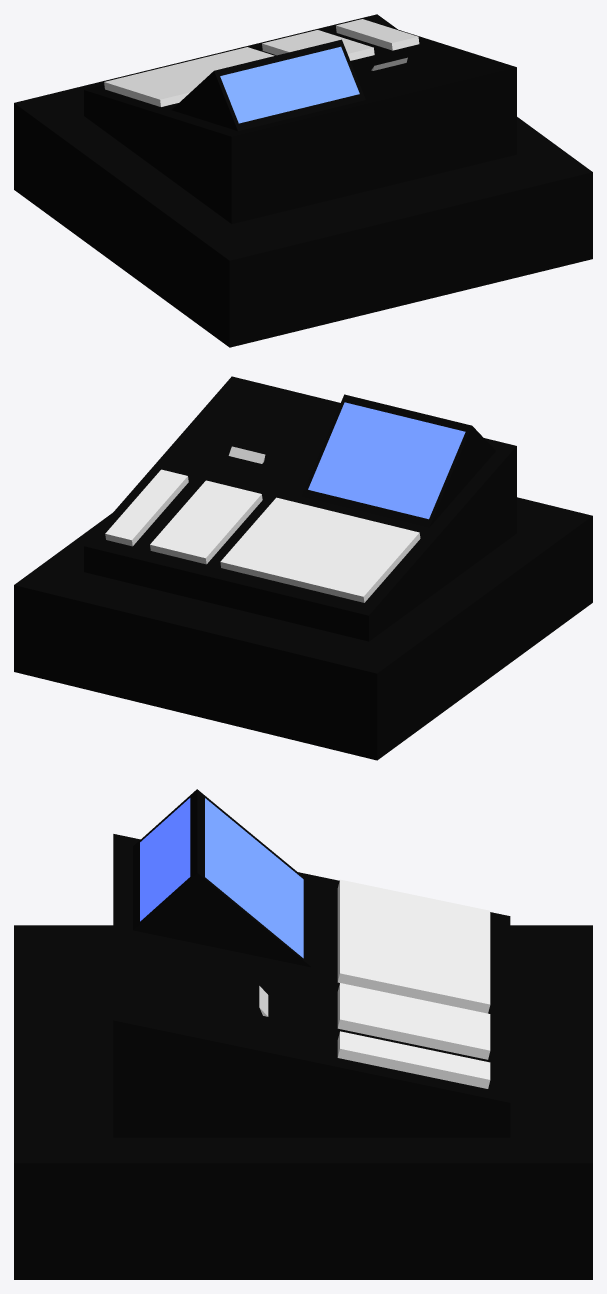
The model's file is cashregister.fbx.
3 views of the same model, one above another, from view 1: azimuth 30°, elevation 25°; view 2: azimuth 150°, elevation 25°; view 3: azimuth 270°, elevation 25° (orthographic). The views are drawn at different scales.
Visible parts, largest first — view 1: Cash Register; view 2: Cash Register; view 3: Cash Register.
Boxes of the visible parts, left/top/right/bottom form: Cash Register: left=14, top=14, right=592, bottom=347; Cash Register: left=14, top=376, right=592, bottom=760; Cash Register: left=14, top=789, right=592, bottom=1279.
Size of the model in its own units: 150 by 84.57 by 154.
